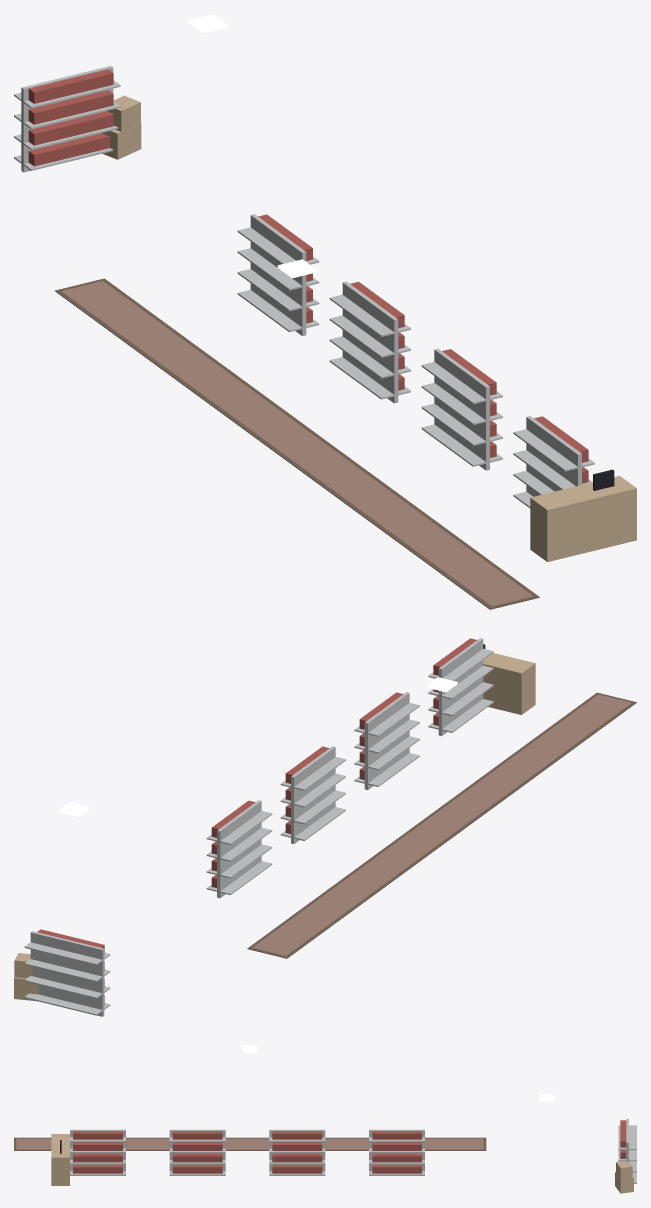
The model's file is fine-s0.glb.
The picture shows the model from 3 angles, top to bottom: view 1: azimuth 30°, elevation 25°; view 2: azimuth 150°, elevation 25°; view 3: azimuth 270°, elevation 25°; orthographic projection. The views are drawn at different scales.
Parts seen in each view (by area): view 1: soft-s0, shelving.000, shop-counter.000, shelf.001, shelf.002, shelf.000, shelf.003, cardboard-box.000; view 2: soft-s0, shelving.000, shelf.000, shelf.002, shelf.001, shelf.003, shop-counter.000, cardboard-box.000; view 3: soft-s0, shelf.001, shelf.002, shelf.000, shelf.003, shop-counter.000, shelving.000, cardboard-box.000.
Part boxes in pixels (left/top/right/bottom): soft-s0: left=55, top=278, right=539, bottom=609; shelving.000: left=14, top=66, right=120, bottom=172; shop-counter.000: left=530, top=469, right=636, bottom=561; shelf.001: left=329, top=281, right=410, bottom=403; shelf.002: left=421, top=348, right=502, bottom=470; shelf.000: left=237, top=214, right=319, bottom=335; shelf.003: left=513, top=416, right=594, bottom=508; cardboard-box.000: left=102, top=95, right=141, bottom=159; soft-s0: left=247, top=692, right=636, bottom=958; shelving.000: left=24, top=929, right=110, bottom=1016; shelf.000: left=206, top=800, right=272, bottom=898; shelf.002: left=354, top=692, right=419, bottom=789; shelf.001: left=280, top=746, right=345, bottom=843; shelf.003: left=428, top=638, right=493, bottom=735; shop-counter.000: left=483, top=644, right=535, bottom=714; cardboard-box.000: left=14, top=953, right=38, bottom=1001; soft-s0: left=14, top=1137, right=486, bottom=1150; shelf.001: left=269, top=1129, right=325, bottom=1175; shelf.002: left=169, top=1129, right=225, bottom=1175; shelf.000: left=369, top=1129, right=424, bottom=1175; shelf.003: left=70, top=1129, right=125, bottom=1175; shop-counter.000: left=51, top=1134, right=69, bottom=1185; shelving.000: left=618, top=1118, right=636, bottom=1183; cardboard-box.000: left=615, top=1161, right=633, bottom=1193.
Size of the model in its own units: 4.46 by 3.4 by 20.
